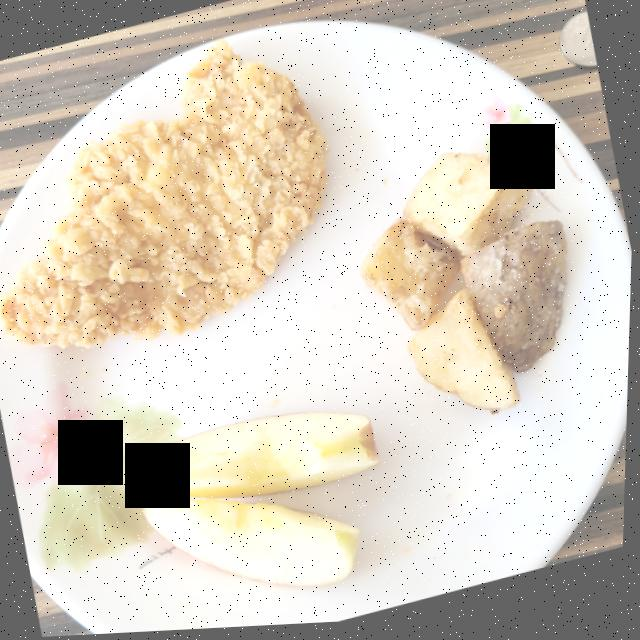apple -sliced-: (146, 415, 382, 589)
coin: (560, 17, 597, 73)
fried chicken cutlet: (0, 42, 329, 347)
fried potato: (362, 157, 568, 417)
